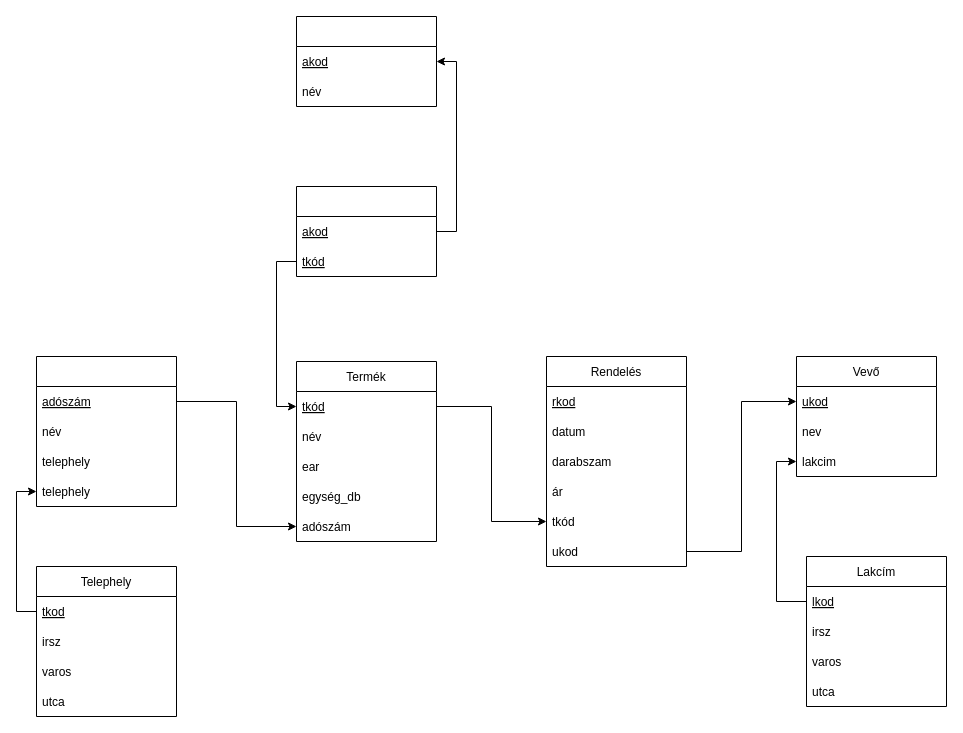
The diagram is 963 pixels wide and 733 high, and some of its shapes have lost their labels. Each missing label, with the box of its shape:
Alkatrész: (296, 16, 436, 106)
Alkatrész-Termék: (296, 186, 436, 276)
Gyártó: (36, 356, 176, 506)
